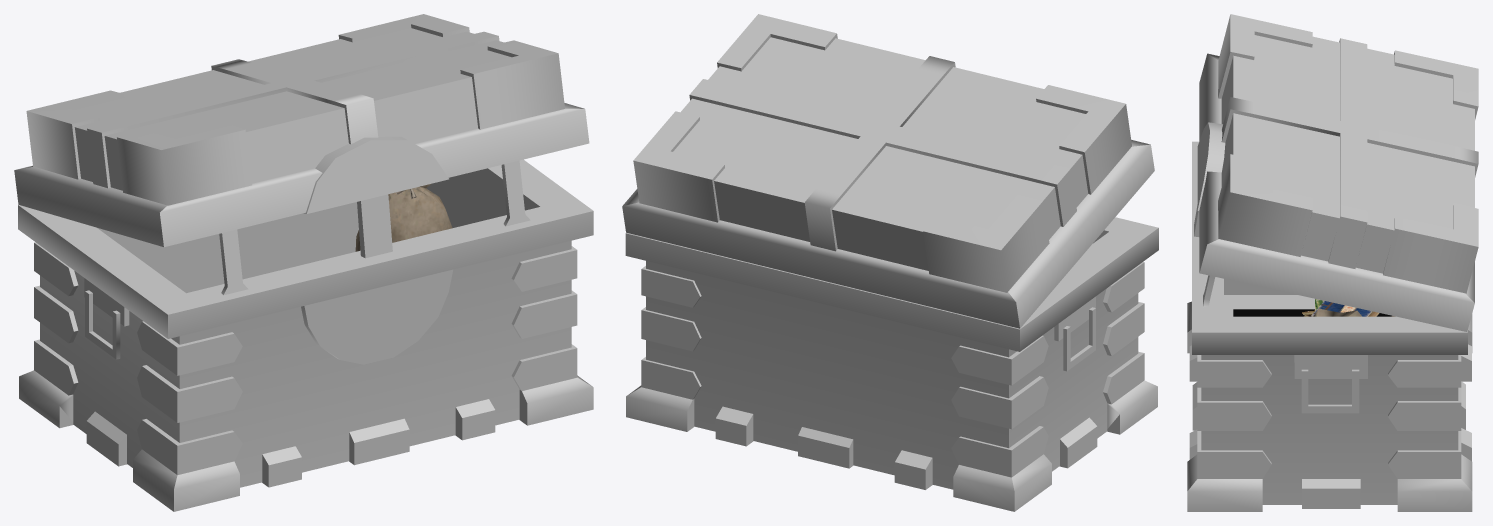
File: invenBOX_B.fbx
3 renders of one model, left to right at view 1: azimuth 30°, elevation 25°; view 2: azimuth 150°, elevation 25°; view 3: azimuth 270°, elevation 25°, orthographic. The views are drawn at different scales.
Parts seen in each view (by area): view 1: LOD_1_Group_0_Sub_1__B_itembox01, LOD_1_Group_0_Sub_2__B_itembox03; view 2: LOD_1_Group_0_Sub_1__B_itembox01; view 3: LOD_1_Group_0_Sub_1__B_itembox01, LOD_1_Group_0_Sub_2__B_itembox03.
Part boxes in pixels (left/top/right/bottom): LOD_1_Group_0_Sub_1__B_itembox01: left=14, top=14, right=593, bottom=511; LOD_1_Group_0_Sub_2__B_itembox03: left=355, top=183, right=452, bottom=251; LOD_1_Group_0_Sub_1__B_itembox01: left=622, top=14, right=1158, bottom=511; LOD_1_Group_0_Sub_1__B_itembox01: left=1187, top=14, right=1478, bottom=511; LOD_1_Group_0_Sub_2__B_itembox03: left=1233, top=299, right=1395, bottom=316.
Bounding box in the file's own units: 187 × 143 × 120.
